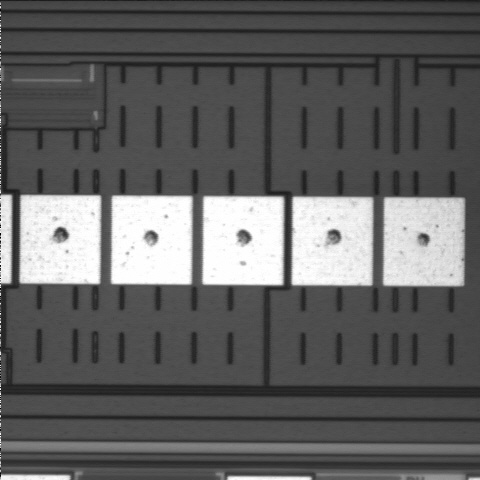pad: (202, 196, 284, 285), (20, 195, 101, 284), (111, 196, 192, 285), (292, 197, 373, 286), (383, 198, 464, 286)
